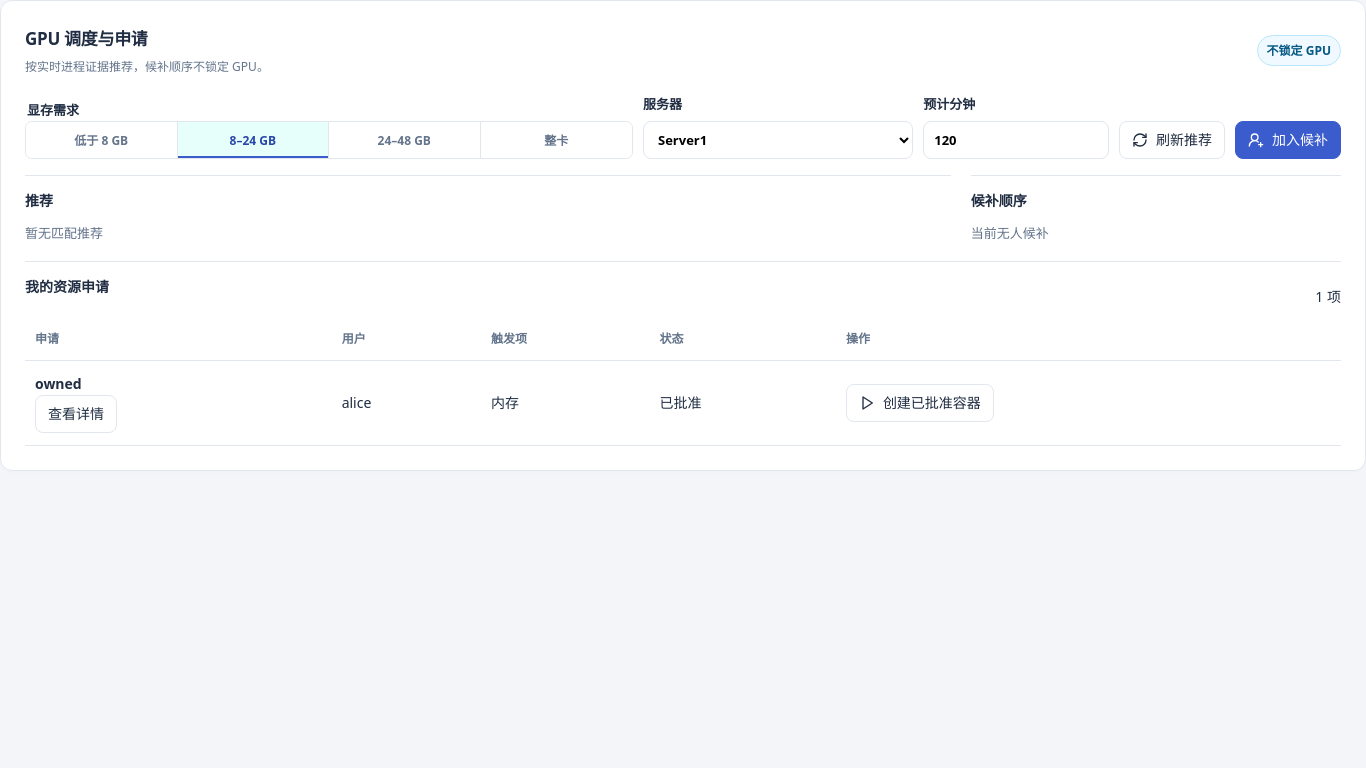
Scenario: member sees refreshed approval, executes it once and retains its history
Expected: the text "待审批" is shown, top-left (650, 360), bottom-right (836, 446)
Click the button with aria-label "创建已批准容器 owned" at (920, 403), box top-left (846, 384), bottom-right (994, 422)
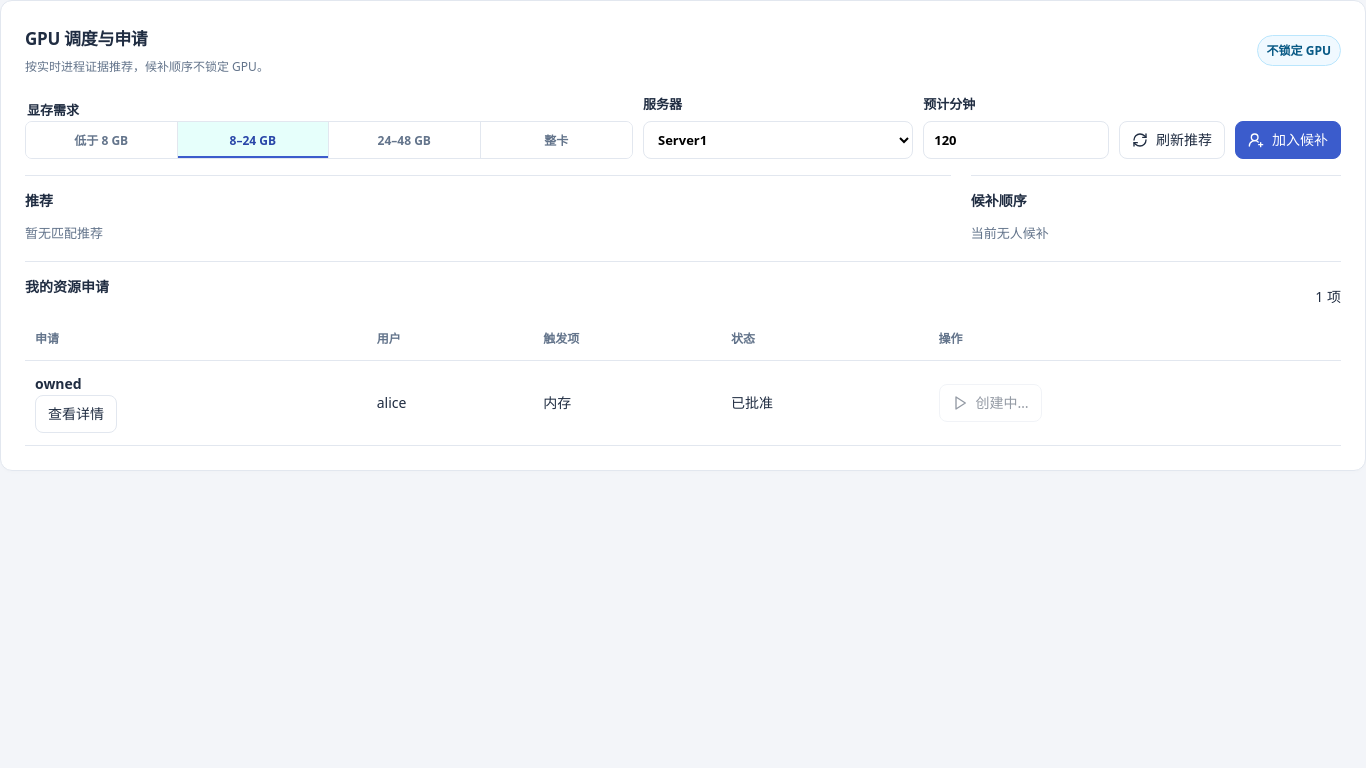
Now the button with aria-label "创建已批准容器 owned" is disabled
Click the button with aria-label "创建已批准容器 owned" at (990, 403), box top-left (939, 384), bottom-right (1042, 422)
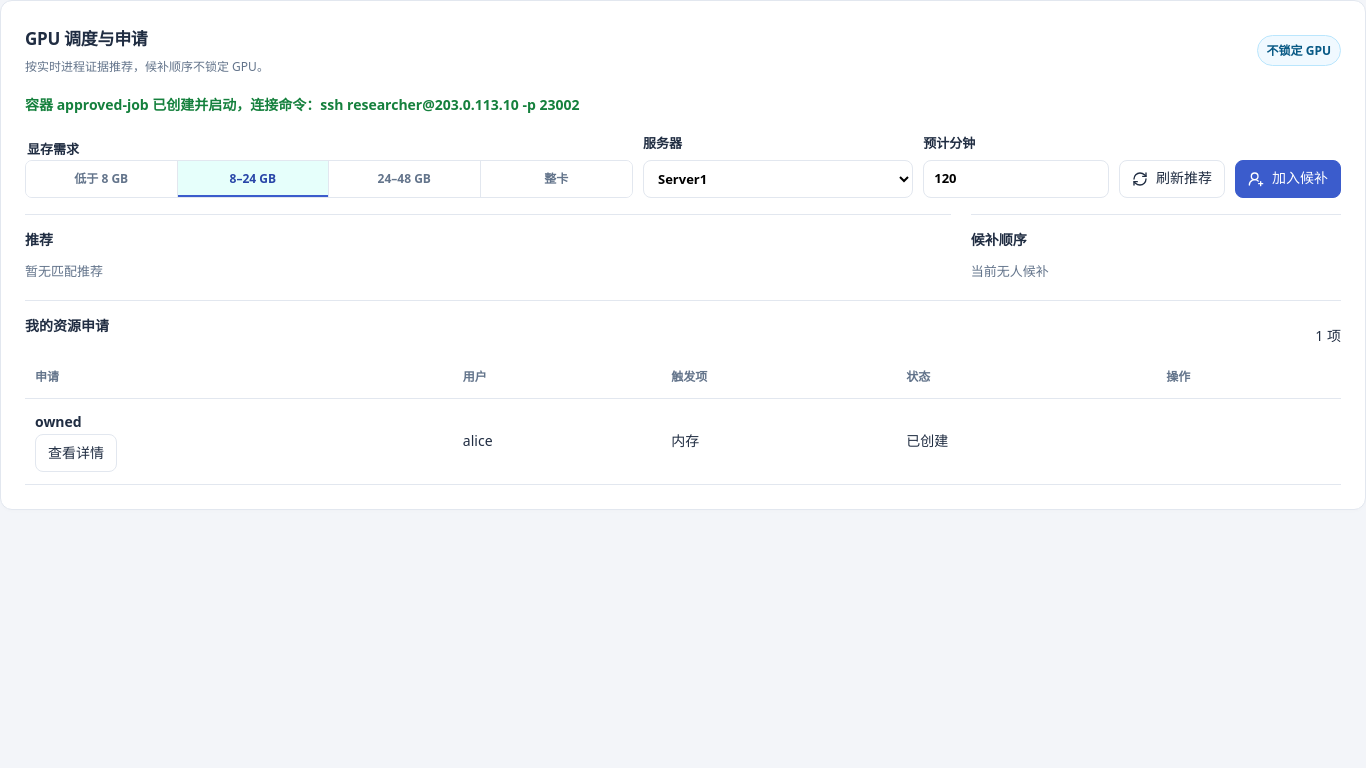
Now the text "已创建" is shown, box top-left (896, 399), bottom-right (1156, 484)
Now the message shows "已创建并启动", box top-left (25, 95), bottom-right (580, 114)
Click the button with aria-label "查看申请详情 owned" at (76, 453), box top-left (35, 434), bottom-right (117, 472)
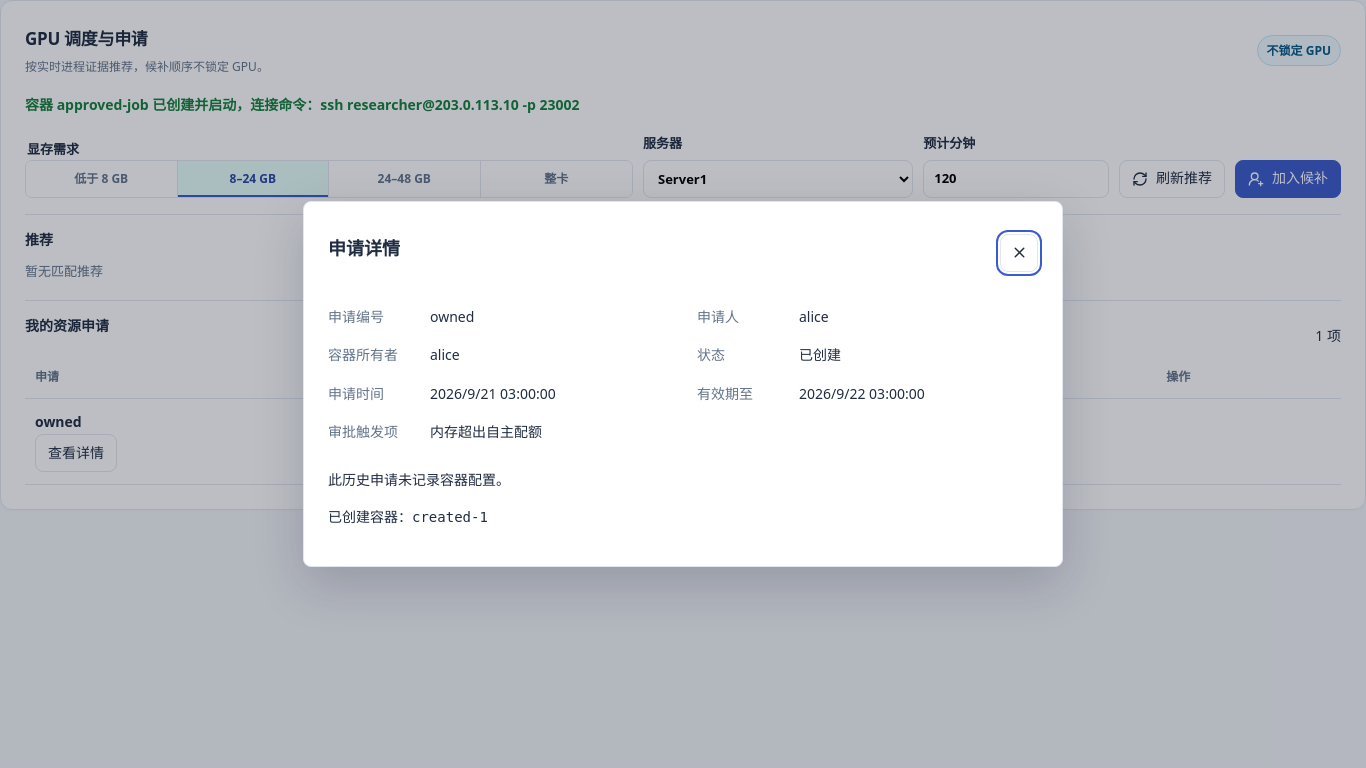
Now the text "created-1" is shown, box top-left (412, 509), bottom-right (488, 525)
